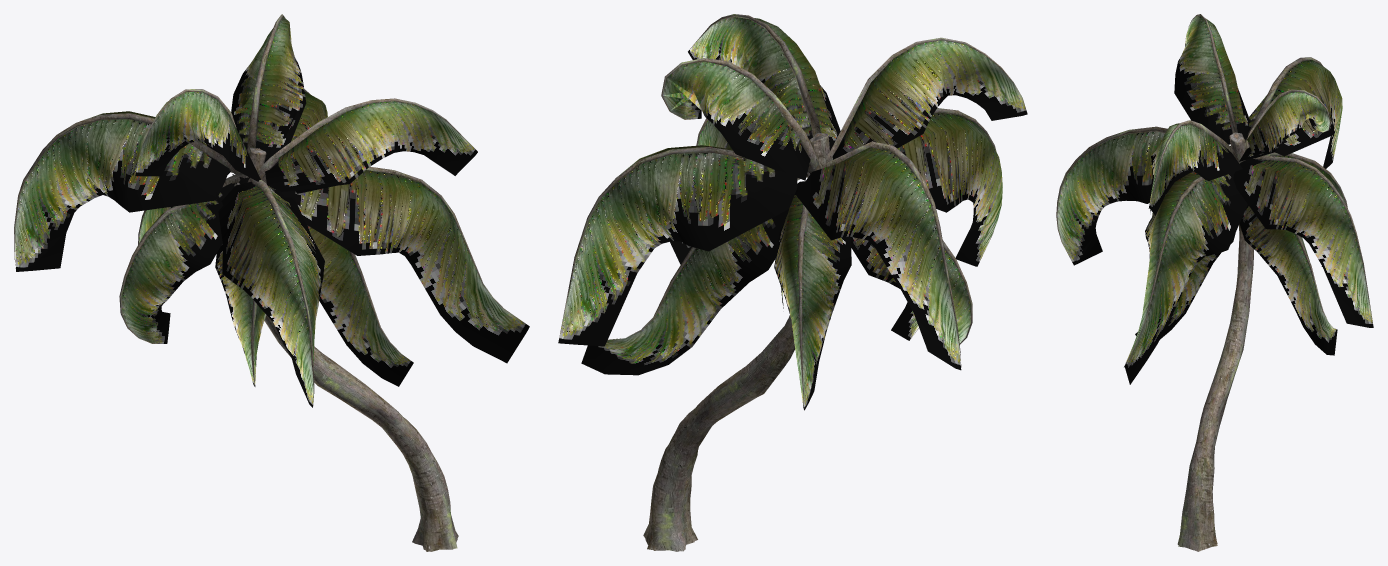
Rendered from Palm_Desktop-transformed.glb.
The picture shows the model from 3 angles, left to right: view 1: azimuth 30°, elevation 25°; view 2: azimuth 150°, elevation 25°; view 3: azimuth 270°, elevation 25°; orthographic projection. The views are drawn at different scales.
Parts seen in each view (by area): view 1: Palm_Desktop_LOD0; view 2: Palm_Desktop_LOD0; view 3: Palm_Desktop_LOD0.
Part boxes in pixels (x1,y1,x2,y2): Palm_Desktop_LOD0: (14, 14, 529, 551); Palm_Desktop_LOD0: (558, 14, 1027, 551); Palm_Desktop_LOD0: (1056, 14, 1373, 551).
Size of the model in its own units: 5.49 by 6.85 by 4.65.
Materials: 2 (2 with a texture image).
